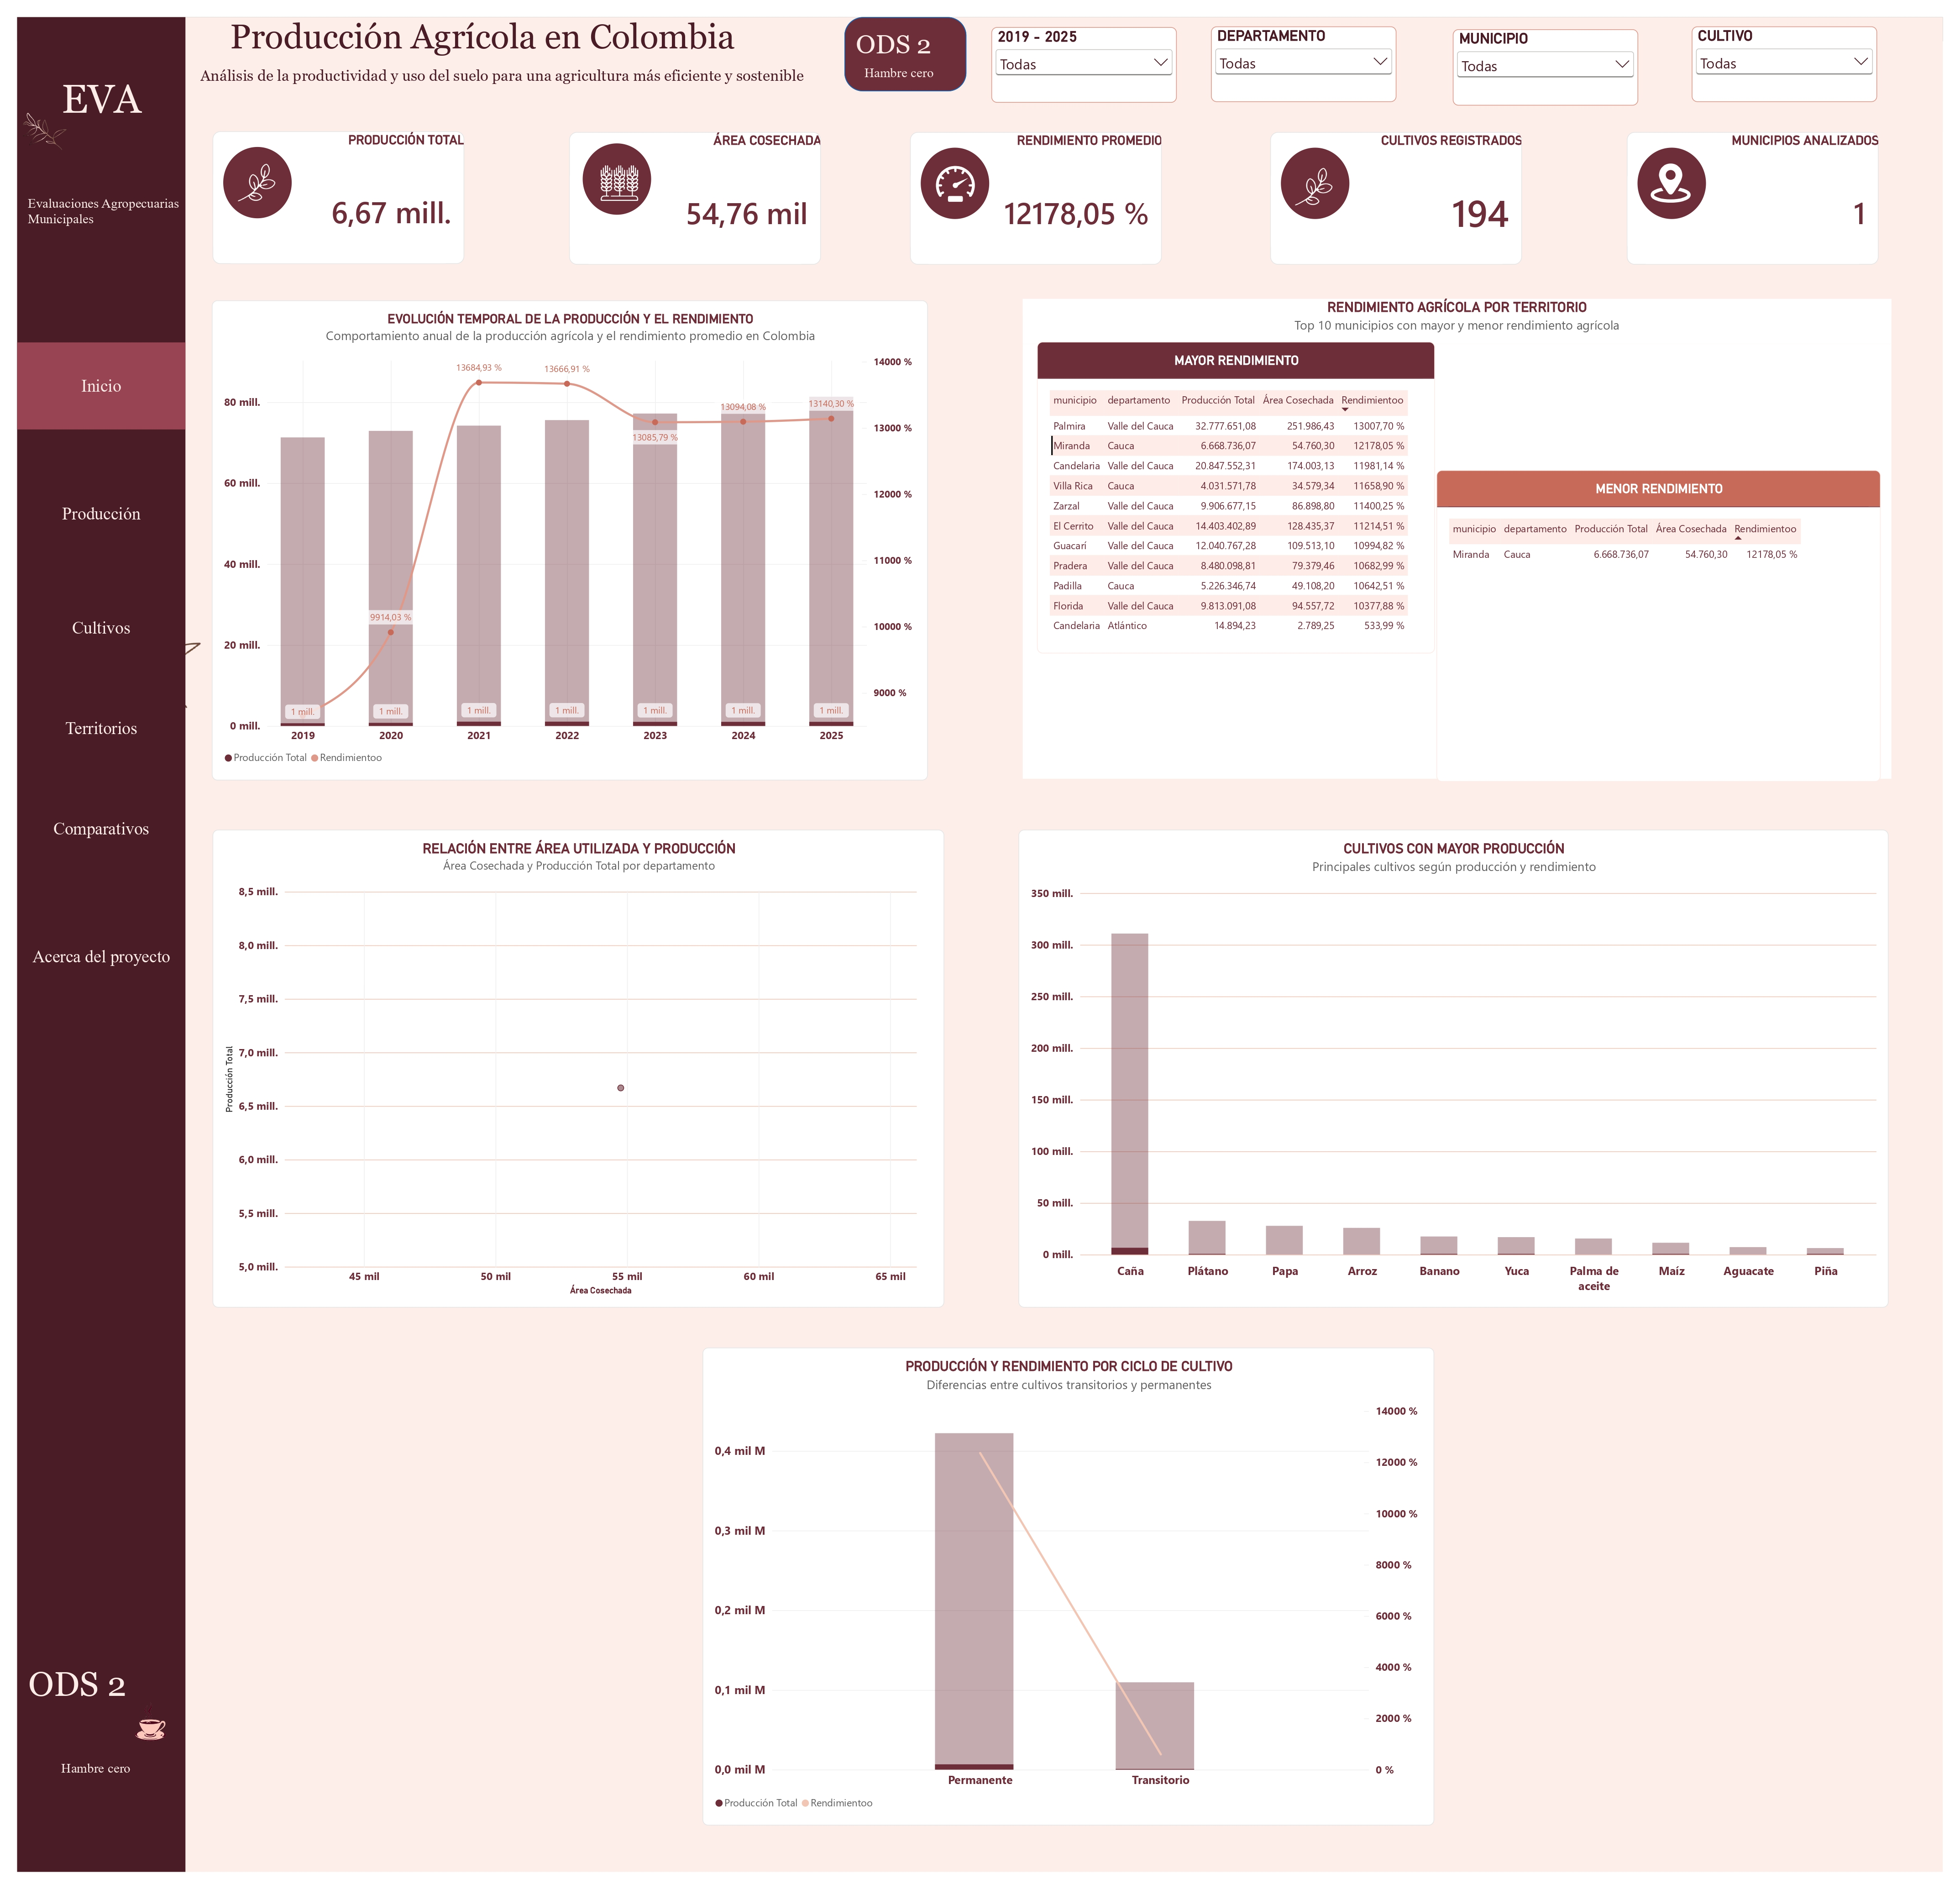

The dashboard page shown, as its layout file describes it:
{"tool":"powerbi","page":{"name":"Página 1","canvas":[2700,2600],"ordinal":0},"visuals":[{"type":"shape","box":[0,0,236,2600],"z":0,"group":"g6"},{"type":"image","box":[36.7,695.5,235.4,384.5],"z":0},{"type":"textbox","box":[216,0,872.6,69.1],"z":1000},{"type":"textbox","box":[15.2,83.2,205.7,166.4],"z":1000,"group":"g6"},{"type":"textbox","box":[257,69.1,872.6,69.1],"z":2000},{"type":"textbox","box":[15.2,249.6,220.8,140.4],"z":2000,"group":"g6"},{"type":"image","box":[0,0,73.6,322.4],"z":3000,"group":"g6"},{"type":"shape","box":[1159.9,0,170.6,103.7],"z":3000},{"type":"textbox","box":[1159.9,17.3,138.2,69.1],"z":4000},{"type":"textbox","box":[1188,67,220.3,58.3],"z":5000},{"type":"textbox","box":[0,2308.8,168.9,166.4],"z":5000,"group":"g6"},{"type":"slicer","fields":{"Values":["dw_eva_agricola dim_tiempo.anio"]},"box":[1365.9,14,259.8,106.1],"z":6000},{"type":"image","box":[155.9,2199.6,60.6,379.6],"z":6000,"group":"g6"},{"type":"slicer","fields":{"Values":["dw_eva_agricola dim_geografia.departamento"]},"box":[1673.9,13,259.8,106.1],"z":7000},{"type":"textbox","box":[0,2444,220.8,156],"z":7000,"group":"g6"},{"type":"slicer","fields":{"Values":["dw_eva_agricola dim_geografia.municipio"]},"box":[2013,17.4,259.8,106.1],"z":8000},{"type":"shape","box":[0,456,236,122],"z":8000,"group":"g6"},{"type":"slicer","fields":{"Values":["dw_eva_agricola dim_cultivo.cultivo"]},"box":[2347.8,13,259.8,106.1],"z":9000},{"type":"textbox","box":[0,504.4,236,1346.8],"z":9000,"group":"g6"},{"type":"group","id":"g1","title":"Grupo 1","box":[2256.5,160.9,355,187.5],"z":10000,"group":"g7"},{"type":"group","id":"g2","title":"Grupo 2","box":[1756.5,160.9,352.5,185],"z":11000,"group":"g8"},{"type":"group","id":"g3","title":"Grupo 3","box":[1252.2,160.9,352.5,187.5],"z":12000,"group":"g9"},{"type":"group","id":"g4","title":"Grupo 4","box":[773.9,160.9,352.7,186.4],"z":13000,"group":"g10"},{"type":"group","id":"g5","title":"Grupo 5","box":[273.6,160,352.7,186.4],"z":14000},{"type":"image","box":[277.5,175,120,117.5],"z":15000},{"type":"image","box":[773.9,195.9,140,72.5],"z":16000,"group":"g10"},{"type":"image","box":[1254.7,195.9,120,77.5],"z":17000,"group":"g9"},{"type":"image","box":[1759,180.9,120,117.5],"z":18000,"group":"g8"},{"type":"cardVisual","title":"PRODUCCIÓN TOTAL","fields":{"Data":["dw_eva_agricola fact_produccion_agricola.Producción Total"]},"box":[273.6,160,352.7,186.4],"z":19000,"group":"g5"},{"type":"image","box":[2276.5,183.4,82.5,97.5],"z":19000,"group":"g7"},{"type":"shape","box":[288.1,181.8,96.7,100],"z":20000,"group":"g5"},{"type":"lineClusteredColumnComboChart","title":"EVOLUCIÓN TEMPORAL DE LA PRODUCCIÓN Y EL RENDIMIENTO","fields":{"Category":["dw_eva_agricola dim_tiempo.anio"],"Y":["dw_eva_agricola fact_produccion_agricola.Producción Total"],"Y2":["dw_eva_agricola fact_produccion_agricola.Rendimientoo"]},"box":[273.3,396.7,1003.3,673.3],"z":20000},{"type":"cardVisual","title":"ÁREA COSECHADA","fields":{"Data":["dw_eva_agricola fact_produccion_agricola.Área Cosechada"]},"box":[773.9,160.9,352.7,186.4],"z":21000,"group":"g4"},{"type":"shape","title":"RENDIMIENTO AGRÍCOLA POR TERRITORIO","box":[1410,395,1218.3,673.3],"z":21000},{"type":"shape","box":[792.7,177.1,96.7,100],"z":22000,"group":"g4"},{"type":"tableEx","title":"MAYOR RENDIMIENTO","fields":{"Values":["dw_eva_agricola dim_geografia.municipio","dw_eva_agricola dim_geografia.departamento","dw_eva_agricola fact_produccion_agricola.Producción Total","dw_eva_agricola fact_produccion_agricola.Área Cosechada","dw_eva_agricola fact_produccion_agricola.Rendimientoo"]},"box":[1430,455,558.3,436.7],"z":22000},{"type":"cardVisual","title":"RENDIMIENTO PROMEDIO","fields":{"Data":["dw_eva_agricola fact_produccion_agricola.Rendimientoo"]},"box":[1252.2,160.9,352.7,186.4],"z":23000,"group":"g3"},{"type":"tableEx","title":"MENOR RENDIMIENTO","fields":{"Values":["dw_eva_agricola dim_geografia.municipio","dw_eva_agricola dim_geografia.departamento","dw_eva_agricola fact_produccion_agricola.Producción Total","dw_eva_agricola fact_produccion_agricola.Área Cosechada","dw_eva_agricola fact_produccion_agricola.Rendimientoo"]},"box":[1990,635,623.3,436.7],"z":23000},{"type":"group","id":"g6","title":"Grupo 6","box":[0,0,236,2600],"z":24000},{"type":"shape","box":[1266.7,182.7,96.7,100],"z":24000,"group":"g3"},{"type":"cardVisual","title":"CULTIVOS REGISTRADOS","fields":{"Data":["dw_eva_agricola dim_cultivo.Cultivos Registrados"]},"box":[1756.5,160.9,352.7,186.4],"z":25000,"group":"g2"},{"type":"scatterChart","title":"RELACIÓN ENTRE ÁREA UTILIZADA Y PRODUCCIÓN","fields":{"Category":["dw_eva_agricola dim_geografia.departamento"],"X":["dw_eva_agricola fact_produccion_agricola.Área Cosechada"],"Y":["dw_eva_agricola fact_produccion_agricola.Producción Total"]},"box":[273.9,1139.1,1026,670],"z":25000},{"type":"shape","box":[1771,182.7,96.7,100],"z":26000,"group":"g2"},{"type":"clusteredColumnChart","title":"CULTIVOS CON MAYOR PRODUCCIÓN","fields":{"Category":["dw_eva_agricola dim_cultivo.cultivo"],"Y":["dw_eva_agricola fact_produccion_agricola.Producción Total"]},"box":[1404.3,1139.1,1220,670],"z":26000},{"type":"cardVisual","title":"MUNICIPIOS ANALIZADOS","fields":{"Data":["dw_eva_agricola dim_geografia.Municipios Analizados"]},"box":[2256.5,160.9,352.7,186.4],"z":27000,"group":"g1"},{"type":"lineStackedColumnComboChart","title":"PRODUCCIÓN Y RENDIMIENTO POR CICLO DE CULTIVO","fields":{"Category":["dw_eva_agricola dim_cultivo.ciclo_cultivo"],"Y":["dw_eva_agricola fact_produccion_agricola.Producción Total"],"Y2":["dw_eva_agricola fact_produccion_agricola.Rendimientoo"]},"box":[960.9,1865.2,1026,670],"z":27000},{"type":"group","id":"g7","title":"Grupo 7","box":[2256.5,160.9,356.5,187],"z":27001},{"type":"group","id":"g8","title":"Grupo 8","box":[1756.5,160.9,352.2,187],"z":27002},{"type":"group","id":"g9","title":"Grupo 9","box":[1252.2,160.9,352.2,187],"z":27003},{"type":"group","id":"g10","title":"Grupo 10","box":[773.9,160.9,352.2,187],"z":27004},{"type":"shape","box":[2271,182.7,96.7,100],"z":28000,"group":"g1"}]}

Visuals, with their boxes in screenshot pixels (x1, y1, x2, y2):
shape: box(10, 87, 179, 1889)
image: box(37, 585, 205, 860)
textbox: box(165, 87, 790, 136)
textbox: box(21, 147, 168, 266)
textbox: box(194, 136, 819, 186)
textbox: box(21, 266, 179, 366)
image: box(10, 87, 63, 318)
shape: box(841, 87, 963, 161)
textbox: box(841, 99, 939, 149)
textbox: box(861, 135, 1018, 177)
textbox: box(10, 1740, 131, 1859)
slicer - dw_eva_agricola dim_tiempo.anio: box(988, 97, 1174, 173)
image: box(122, 1662, 165, 1889)
slicer - dw_eva_agricola dim_geografia.departamento: box(1209, 96, 1394, 172)
textbox: box(10, 1837, 168, 1889)
slicer - dw_eva_agricola dim_geografia.municipio: box(1452, 99, 1637, 175)
shape: box(10, 413, 179, 501)
slicer - dw_eva_agricola dim_cultivo.cultivo: box(1691, 96, 1877, 172)
textbox: box(10, 448, 179, 1412)
"Grupo 1" group: box(1625, 202, 1880, 336)
"Grupo 2" group: box(1268, 202, 1520, 335)
"Grupo 3" group: box(907, 202, 1159, 336)
"Grupo 4" group: box(564, 202, 817, 336)
"Grupo 5" group: box(206, 201, 459, 335)
image: box(209, 212, 295, 296)
image: box(564, 227, 665, 279)
image: box(908, 227, 994, 283)
image: box(1269, 216, 1355, 300)
"PRODUCCIÓN TOTAL" cardVisual: box(206, 201, 459, 335)
image: box(1640, 218, 1699, 288)
shape: box(216, 217, 286, 289)
"EVOLUCIÓN TEMPORAL DE LA PRODUCCIÓN Y EL RENDIMIENTO" lineClusteredColumnComboChart: box(206, 371, 924, 853)
"ÁREA COSECHADA" cardVisual: box(564, 202, 817, 336)
"RENDIMIENTO AGRÍCOLA POR TERRITORIO" shape: box(1020, 370, 1892, 852)
shape: box(578, 214, 647, 285)
"MAYOR RENDIMIENTO" tableEx: box(1034, 413, 1434, 725)
"RENDIMIENTO PROMEDIO" cardVisual: box(907, 202, 1159, 336)
"MENOR RENDIMIENTO" tableEx: box(1435, 541, 1881, 854)
"Grupo 6" group: box(10, 87, 179, 1889)
shape: box(917, 218, 986, 289)
"CULTIVOS REGISTRADOS" cardVisual: box(1268, 202, 1520, 336)
"RELACIÓN ENTRE ÁREA UTILIZADA Y PRODUCCIÓN" scatterChart: box(206, 903, 941, 1382)
shape: box(1278, 218, 1347, 289)
"CULTIVOS CON MAYOR PRODUCCIÓN" clusteredColumnChart: box(1016, 903, 1889, 1382)
"MUNICIPIOS ANALIZADOS" cardVisual: box(1625, 202, 1878, 336)
"PRODUCCIÓN Y RENDIMIENTO POR CICLO DE CULTIVO" lineStackedColumnComboChart: box(698, 1422, 1433, 1889)
"Grupo 7" group: box(1625, 202, 1881, 336)
"Grupo 8" group: box(1268, 202, 1520, 336)
"Grupo 9" group: box(907, 202, 1159, 336)
"Grupo 10" group: box(564, 202, 817, 336)
shape: box(1636, 218, 1705, 289)
